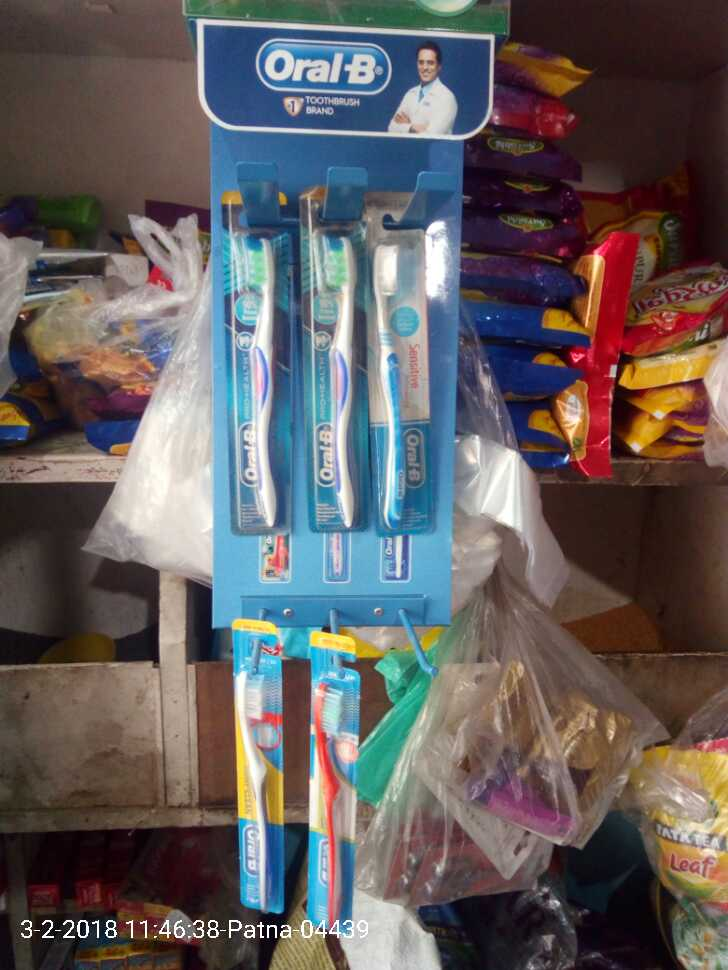oralb: (213, 194, 304, 537), (375, 234, 439, 528), (313, 224, 371, 534), (293, 662, 360, 921), (231, 648, 287, 910)
